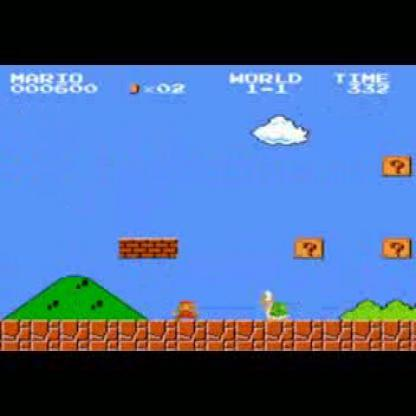Tortuga: (259, 288, 298, 322)
